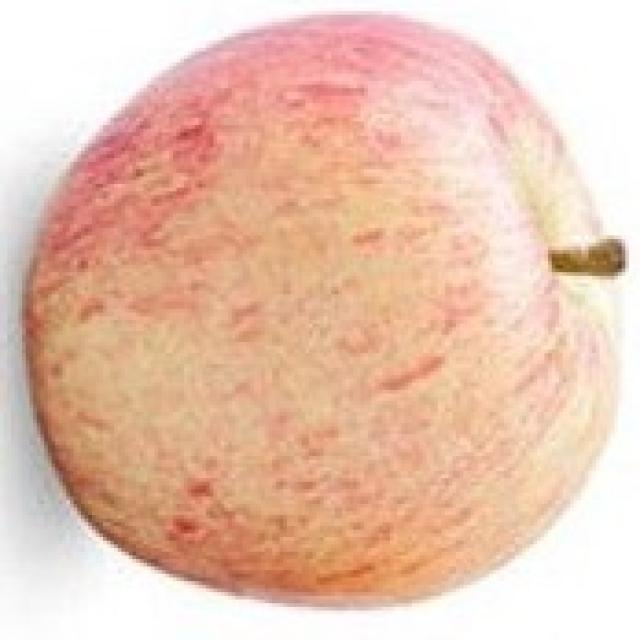75-_ripeness: (36, 21, 625, 608)
